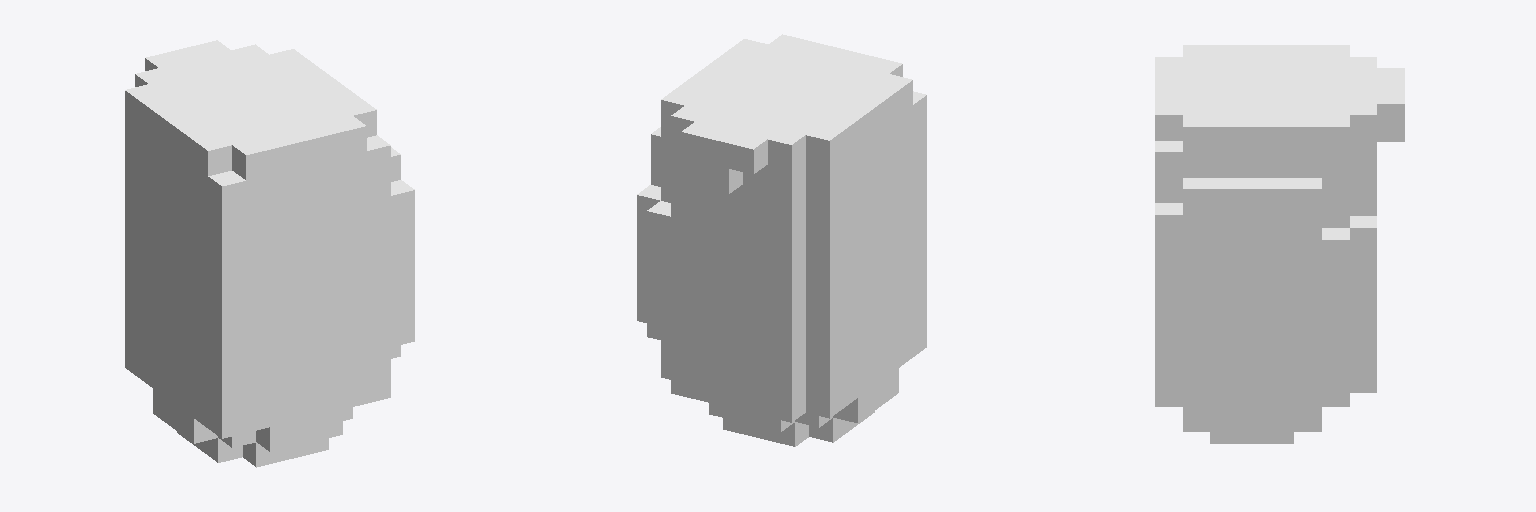
File: Hero-6.obj
3 views of the same model, side by side, from view 1: azimuth 30°, elevation 25°; view 2: azimuth 150°, elevation 25°; view 3: azimuth 270°, elevation 25° (orthographic).
Parts seen in each view (by area): view 1: object 1; view 2: object 1; view 3: object 1.
Boxes of the visible parts, <box> form: object 1: <box>125,40,414,467</box>; object 1: <box>637,34,926,446</box>; object 1: <box>1155,45,1404,443</box>.
Size of the model in its own units: 0.8 by 1.3 by 0.9.